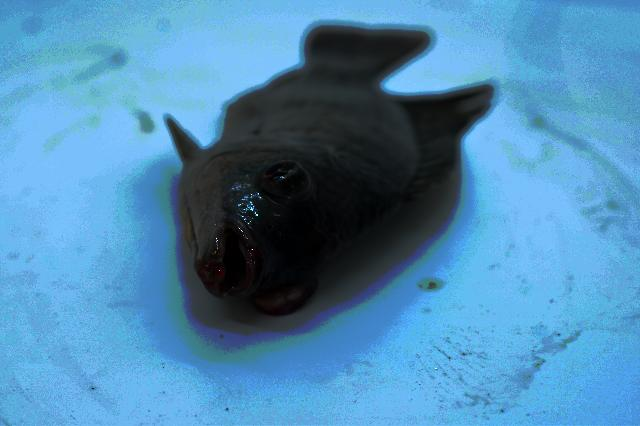Columnaris Disease: (171, 32, 486, 315)
